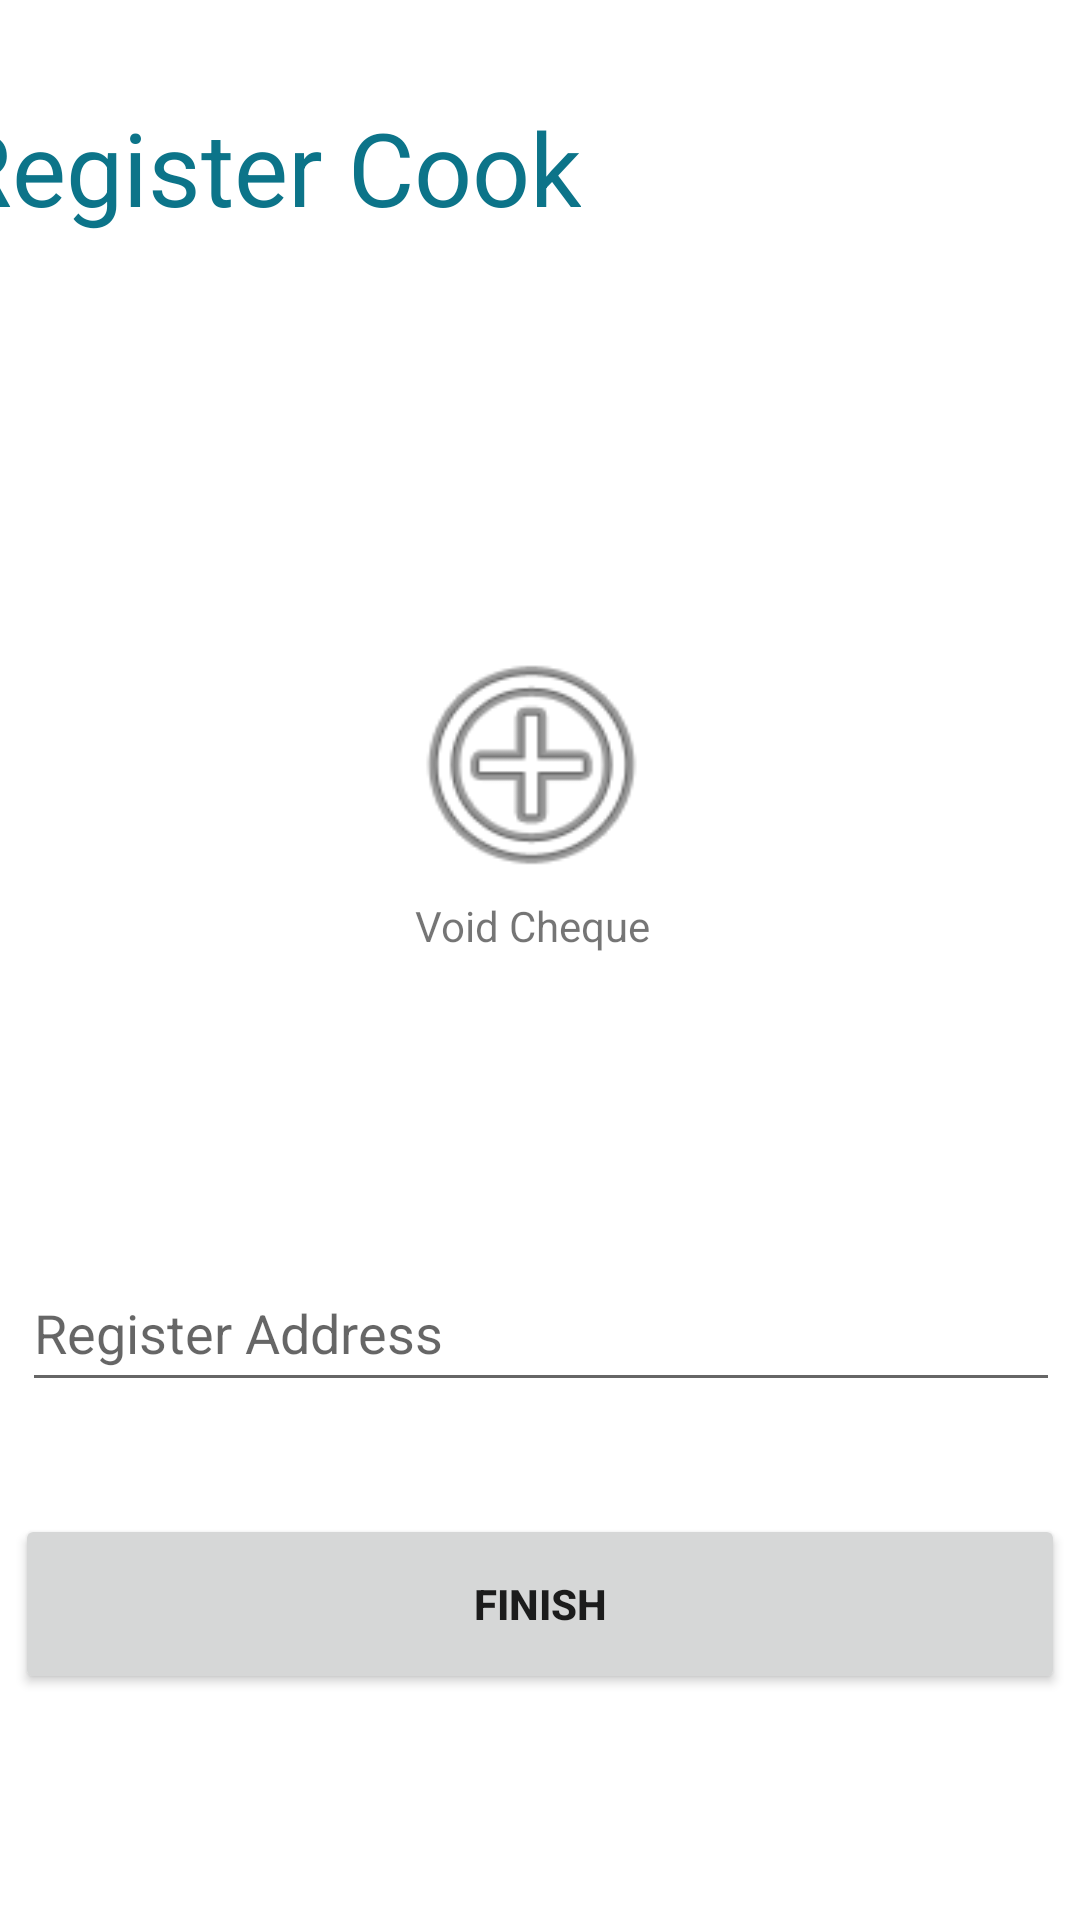

Point at icon controls on the screen. Image size 1080 × 1920, points as (x,y).
add: (531,765)
